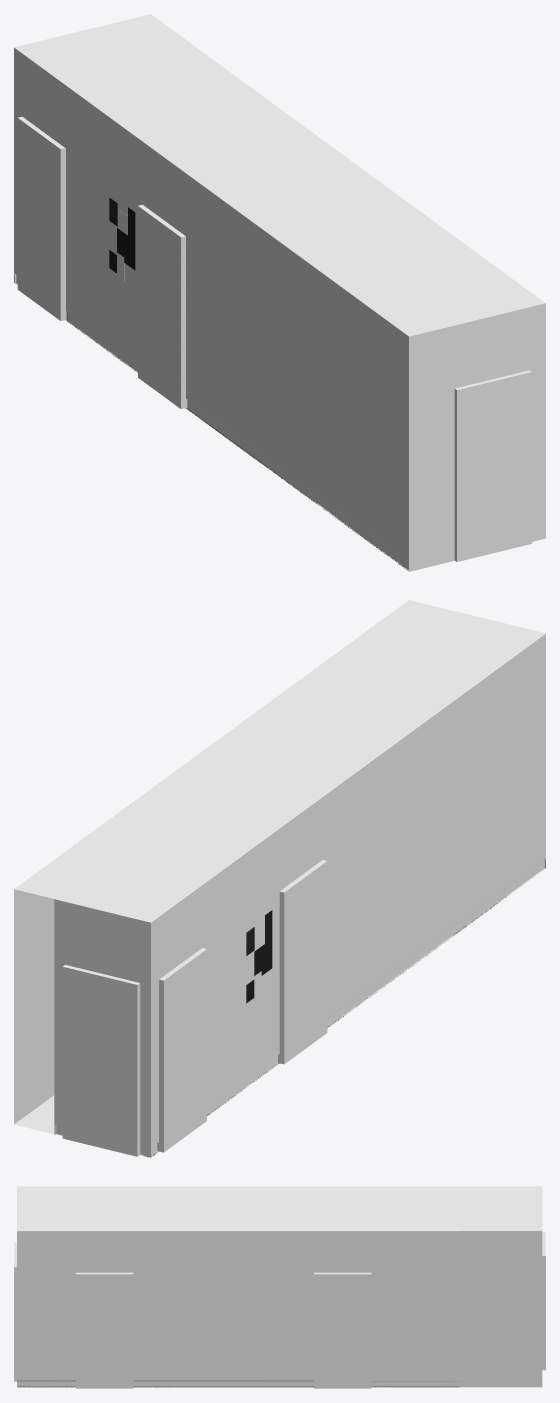
Rendered from hallway.glb.
The picture shows the model from 3 angles, top to bottom: view 1: azimuth 30°, elevation 25°; view 2: azimuth 150°, elevation 25°; view 3: azimuth 270°, elevation 25°; orthographic projection. The views are drawn at different scales.
Visible parts, largest first — view 1: Cube, Cube.043, Cube.020, Cube.016, Cube.045, Cube.019, Cube.015; view 2: Cube, Cube.018, Cube.016, Cube.020, Cube.017, Cube.015, Cube.019; view 3: Cube, Cube.014, Cube.022, Cube.002, Cube.021, Cube.017, Cube.045.
Part boxes in pixels (bbox=[...]): Cube: bbox=[14, 14, 545, 571]; Cube.043: bbox=[463, 380, 526, 559]; Cube.020: bbox=[21, 127, 57, 317]; Cube.016: bbox=[141, 215, 177, 405]; Cube.045: bbox=[454, 370, 531, 561]; Cube.019: bbox=[17, 116, 66, 320]; Cube.015: bbox=[138, 204, 185, 409]; Cube: bbox=[14, 600, 545, 1157]; Cube.018: bbox=[68, 975, 131, 1154]; Cube.016: bbox=[287, 870, 324, 1060]; Cube.020: bbox=[167, 958, 203, 1148]; Cube.017: bbox=[62, 965, 140, 1156]; Cube.015: bbox=[279, 860, 327, 1064]; Cube.019: bbox=[158, 948, 206, 1152]; Cube: bbox=[17, 1186, 542, 1387]; Cube.014: bbox=[318, 1279, 367, 1387]; Cube.022: bbox=[80, 1279, 129, 1387]; Cube.002: bbox=[314, 1272, 371, 1388]; Cube.021: bbox=[76, 1272, 133, 1388]; Cube.017: bbox=[542, 1232, 545, 1370]; Cube.045: bbox=[14, 1243, 16, 1381].
Bounding box in the file's own units: 1.75 × 2.7 × 8.31.
25 materials, 15 textured.
